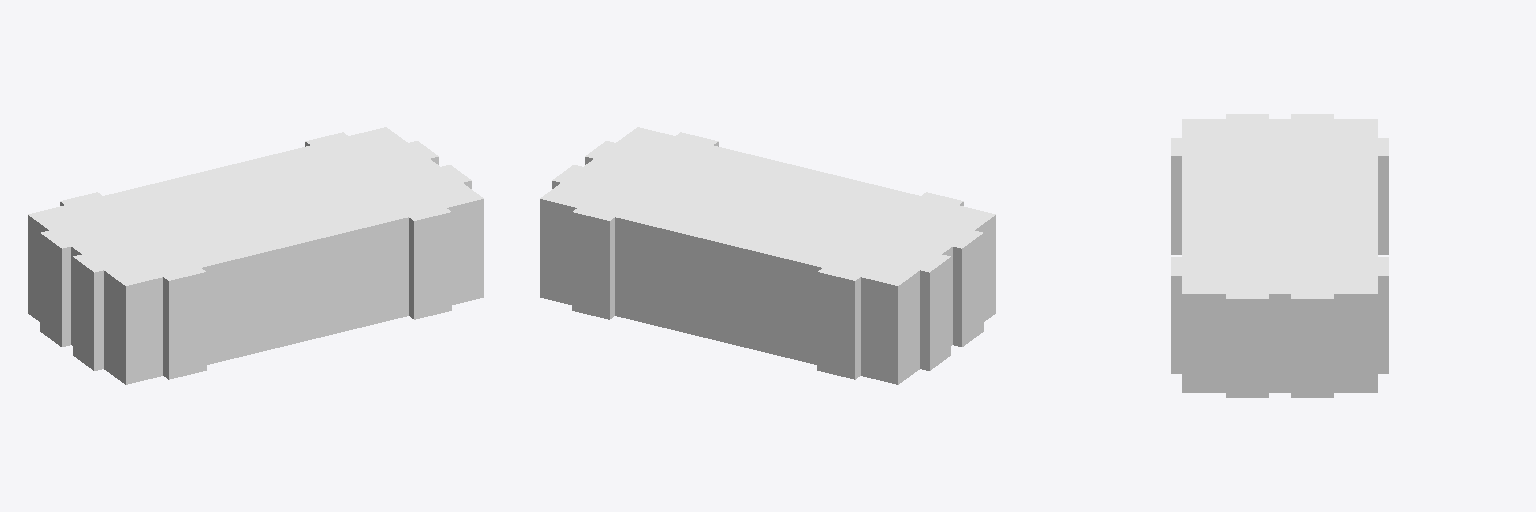
File: Crate_2.obj
3 views of the same model, side by side, from view 1: azimuth 30°, elevation 25°; view 2: azimuth 150°, elevation 25°; view 3: azimuth 270°, elevation 25° (orthographic).
Bounding box in the file's own units: 40 × 10 × 20.